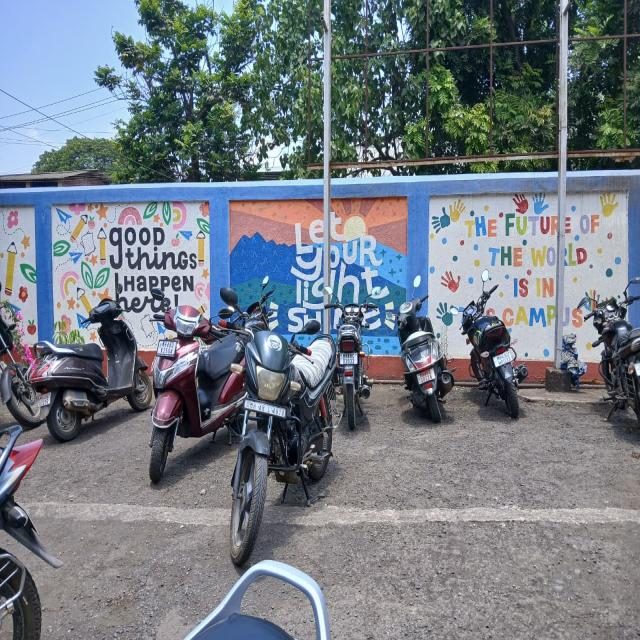Legalparking: (333, 272, 638, 513), (0, 232, 241, 529)
illegalparking: (214, 269, 367, 566)
